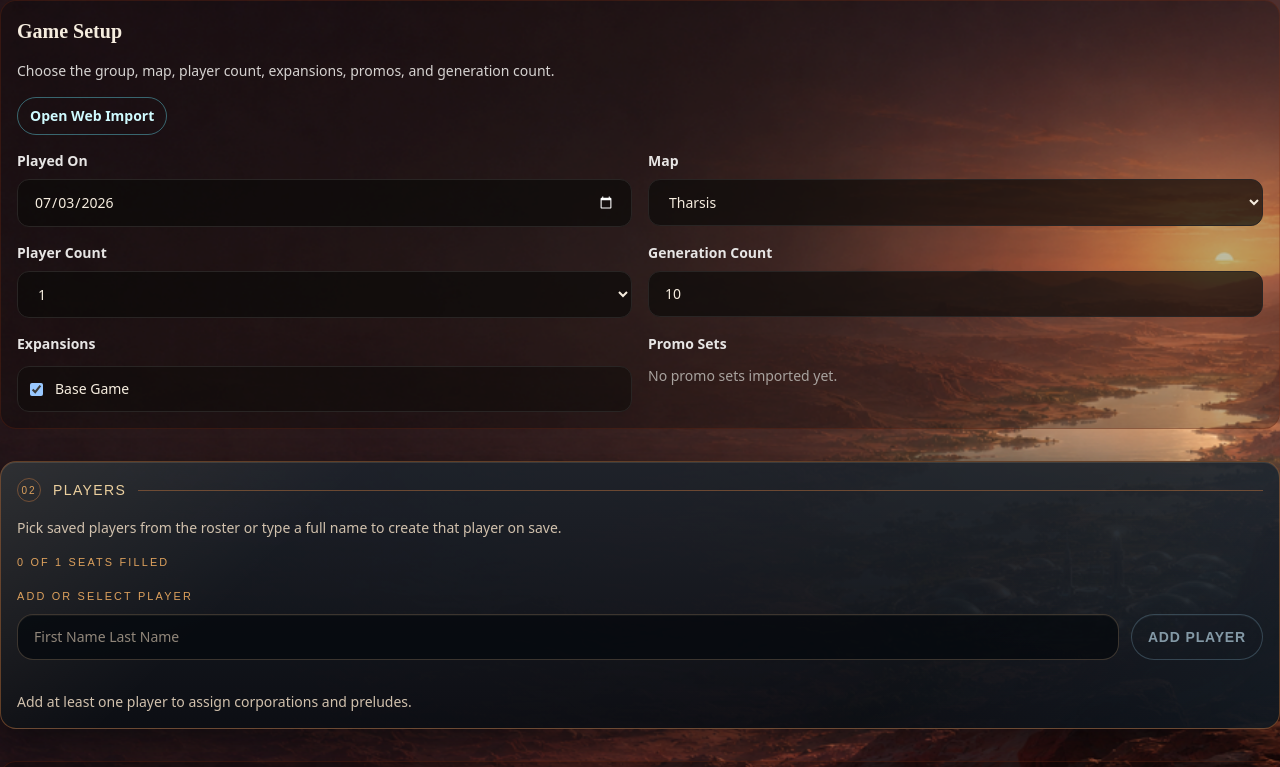
Test: LogGameWizard › adds a typed player name that is not already in the saved roster
This screenshot has width=1280, height=767.
Type "New Player Name" into the field labelled "Add Or Select Player".
click(568, 637); type("New Player Name")  # box [17,614,1119,660]
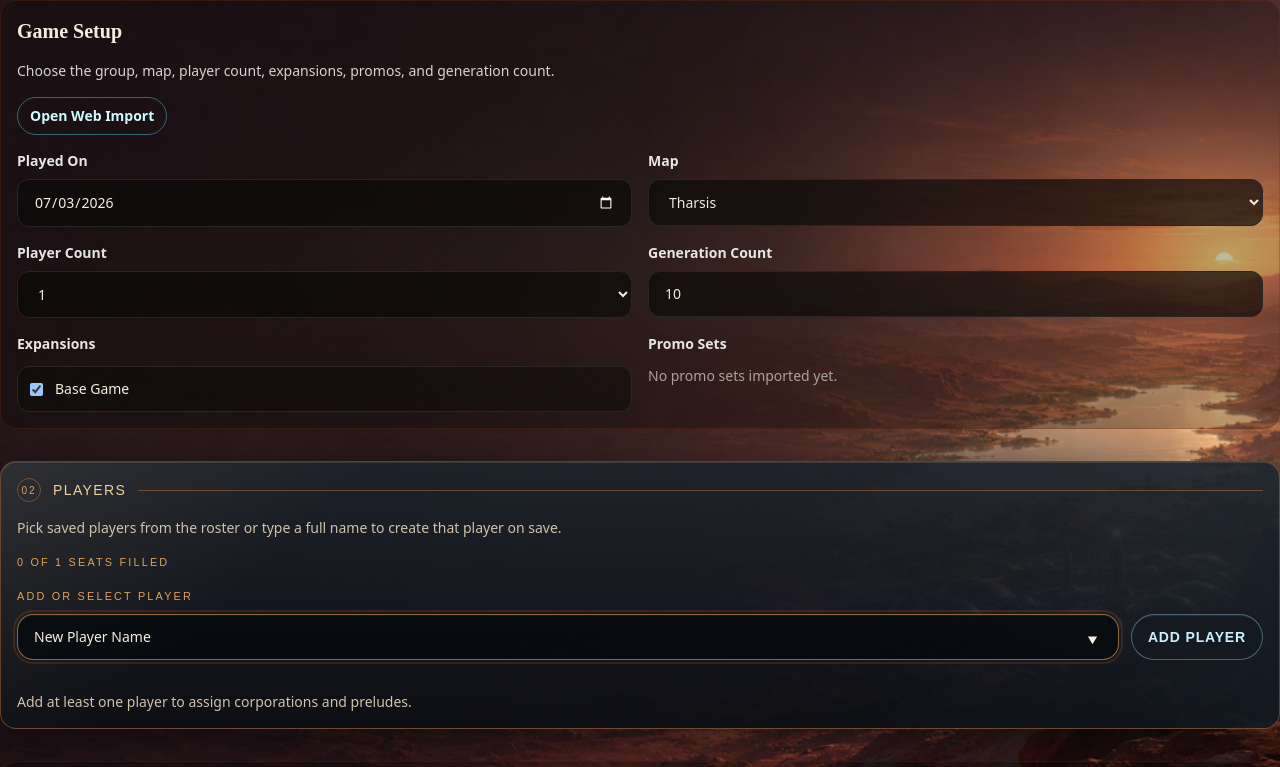
Click the button "Add Player".
click(1197, 637)  # box [1131,614,1263,660]
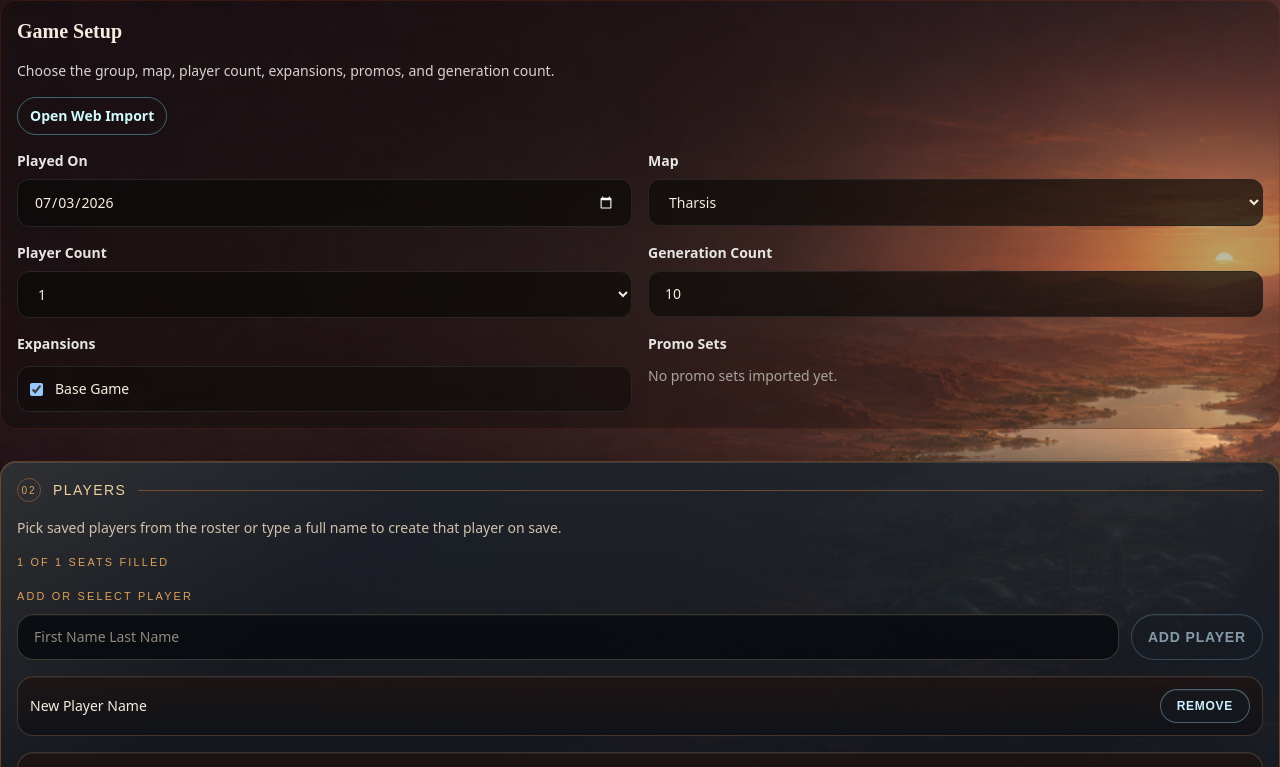
Now the text "1 of 1 seats filled" is shown, box [17,556,169,568]
Now the field labelled "Add Or Select Player" is empty, box [17,614,1119,660]
Now the number of buttons "Remove" is 1, box [1160,689,1250,723]
